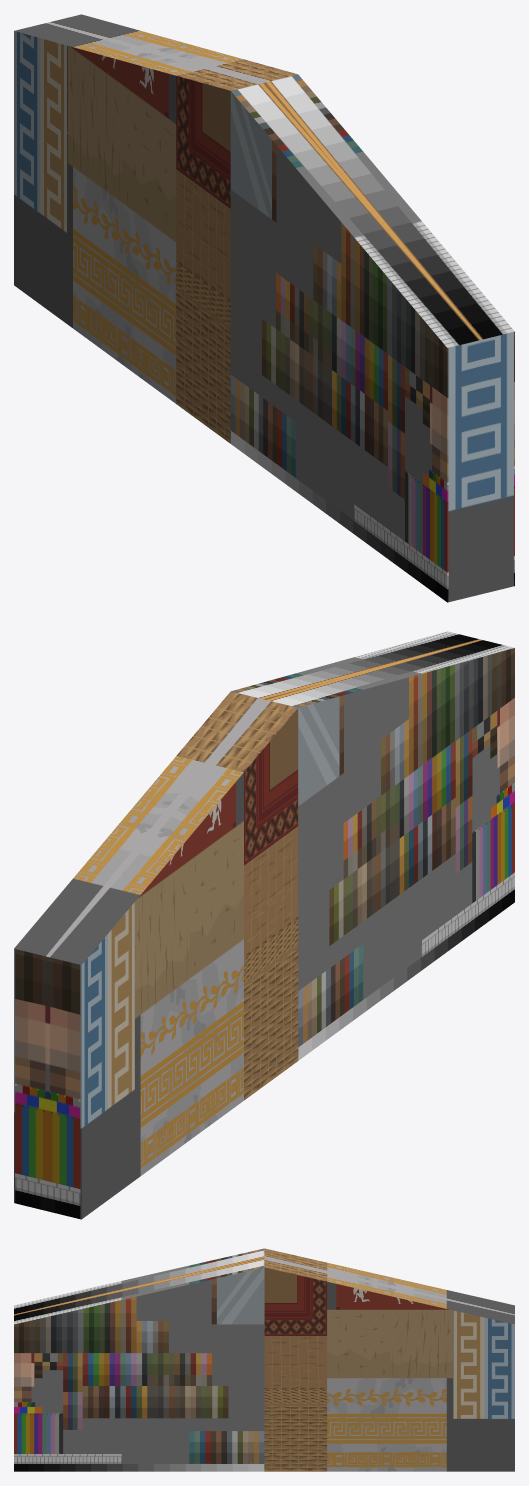
The model's file is ancient_SM_Bld_Roof_Peak_Side_Large_02.gltf.
3 views of the same model, one above another, from view 1: azimuth 30°, elevation 25°; view 2: azimuth 150°, elevation 25°; view 3: azimuth 270°, elevation 25° (orthographic). The views are drawn at different scales.
Parts seen in each view (by area): view 1: SM_Bld_Roof_Peak_Side_Large_02; view 2: SM_Bld_Roof_Peak_Side_Large_02; view 3: SM_Bld_Roof_Peak_Side_Large_02.
Boxes of the visible parts, x1,y1,x2,y2 form: SM_Bld_Roof_Peak_Side_Large_02: (14, 14, 514, 602); SM_Bld_Roof_Peak_Side_Large_02: (14, 631, 514, 1219); SM_Bld_Roof_Peak_Side_Large_02: (14, 1248, 514, 1471).
Size of the model in its own units: 0.225 by 1.12 by 2.5.
Materials: 2 (2 with a texture image).
